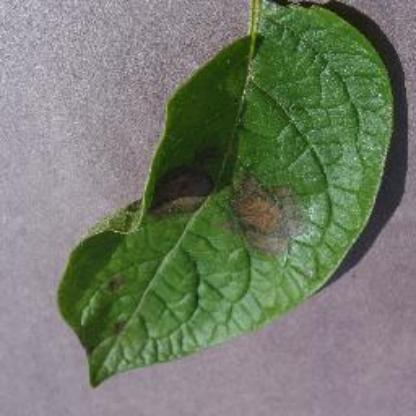Late-Blight: (56, 3, 396, 387)
